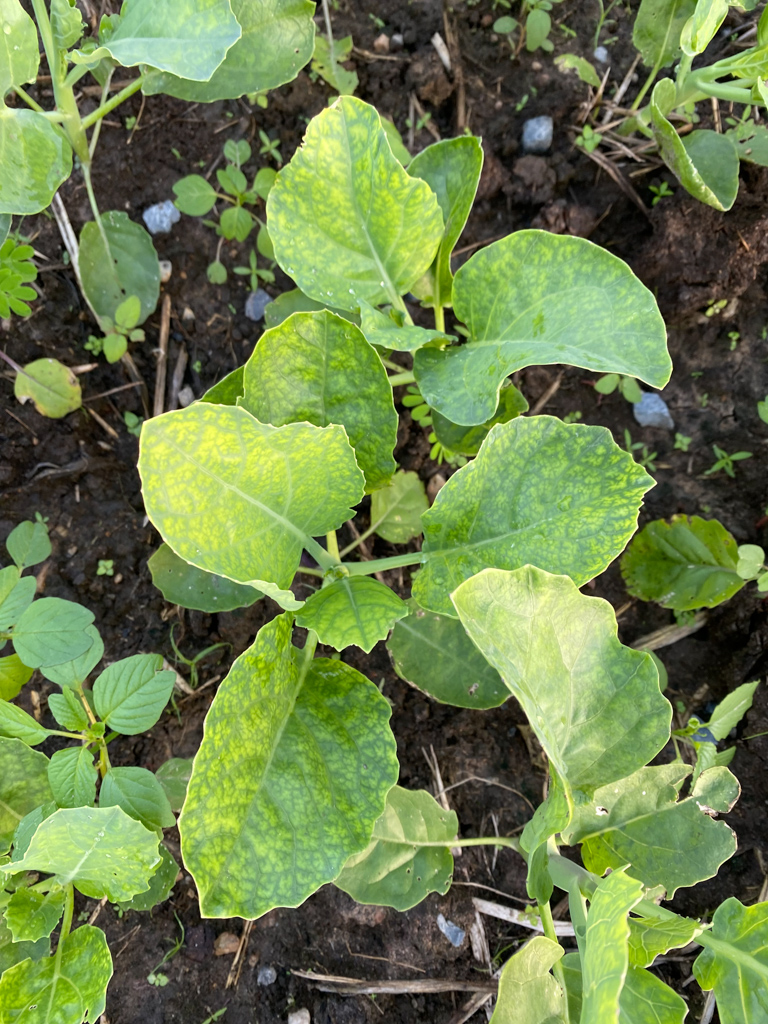Pepper yellow leaf: (139, 405, 330, 575), (174, 624, 280, 924), (282, 93, 438, 272), (595, 448, 656, 593)
